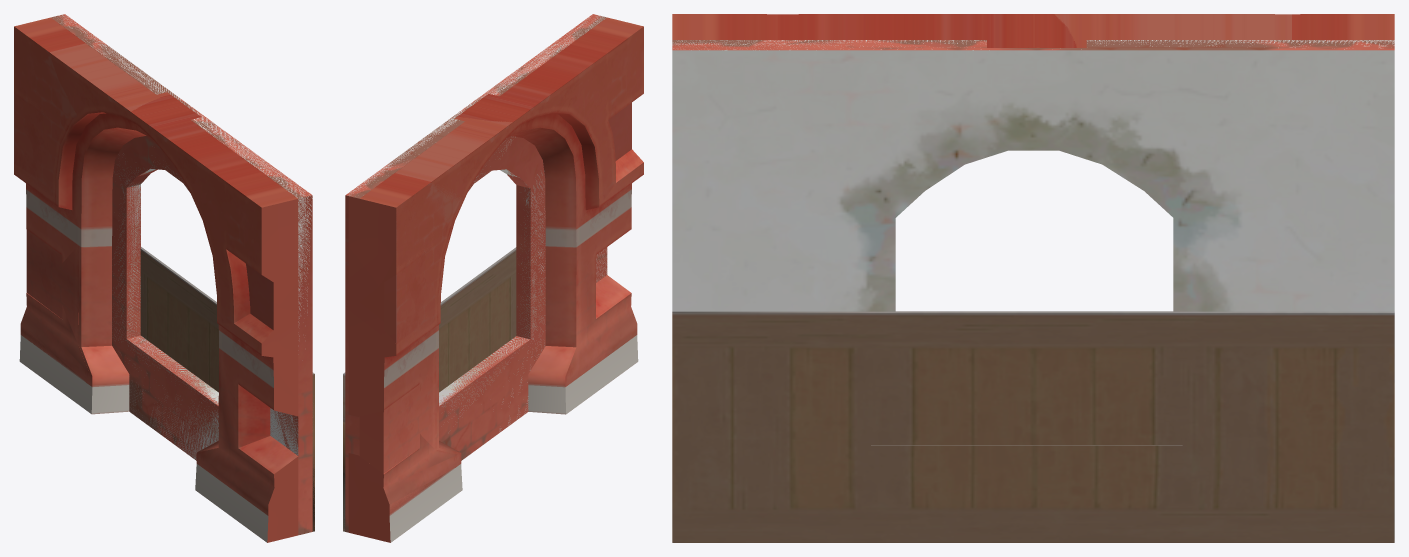
File: wall_test_03.fbx
3 renders of one model, left to right at view 1: azimuth 30°, elevation 25°; view 2: azimuth 150°, elevation 25°; view 3: azimuth 270°, elevation 25°, orthographic. The views are drawn at different scales.
Parts seen in each view (by area): view 1: Wall_02_B, Wall_02_A, Wall_02_C, Wall_04_E, Wall_02_D; view 2: Wall_02_B, Wall_02_A, Wall_02_C, Wall_04_E, Wall_02_D, Wall_02_E; view 3: Wall_02_C, Wall_02_E, Wall_04_E, Wall_03_E, Wall_02_A, Wall_02_B, Wall_02_D.
Boxes of the visible parts, x1=… form: Wall_02_B: x1=14, y1=17, x2=297, y2=542; Wall_02_A: x1=14, y1=38, x2=298, y2=542; Wall_02_C: x1=51, y1=14, x2=312, y2=535; Wall_04_E: x1=140, y1=247, x2=218, y2=392; Wall_02_D: x1=59, y1=14, x2=312, y2=459; Wall_02_B: x1=348, y1=17, x2=643, y2=542; Wall_02_A: x1=359, y1=34, x2=643, y2=537; Wall_02_C: x1=345, y1=14, x2=607, y2=532; Wall_04_E: x1=439, y1=247, x2=516, y2=392; Wall_02_D: x1=349, y1=15, x2=606, y2=432; Wall_02_E: x1=343, y1=374, x2=345, y2=531; Wall_02_C: x1=672, y1=40, x2=1394, y2=311; Wall_02_E: x1=672, y1=311, x2=1394, y2=542; Wall_04_E: x1=871, y1=311, x2=1393, y2=444; Wall_03_E: x1=871, y1=311, x2=1394, y2=542; Wall_02_A: x1=777, y1=14, x2=1291, y2=47; Wall_02_B: x1=672, y1=14, x2=1394, y2=47; Wall_02_D: x1=673, y1=40, x2=1394, y2=290.
Bounding box in the file's own units: 63.51 × 384 × 512.
1 material, 1 textured.
